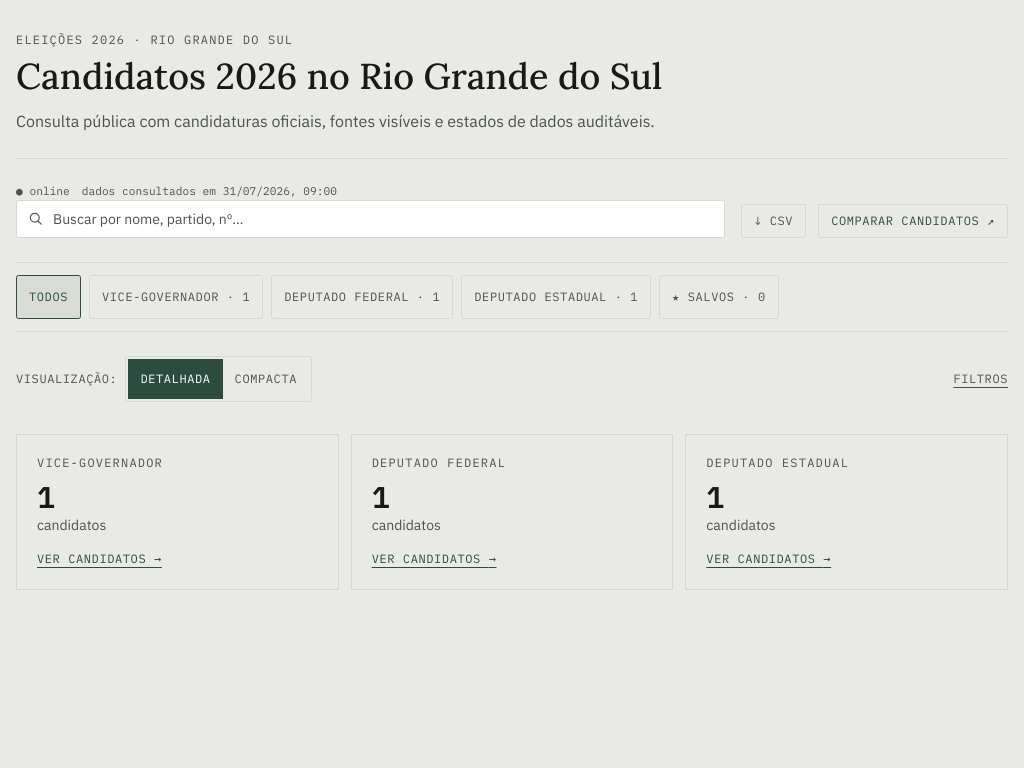
HomePage estados honestos H5.2 › oferece atalhos de cargo clicáveis e seção própria de vice-governador
What coordinates should you click on to do the following:
click the button "Vice-governador · 1"
I would click on:
 (176, 297)
Its box is [89,275,263,319].
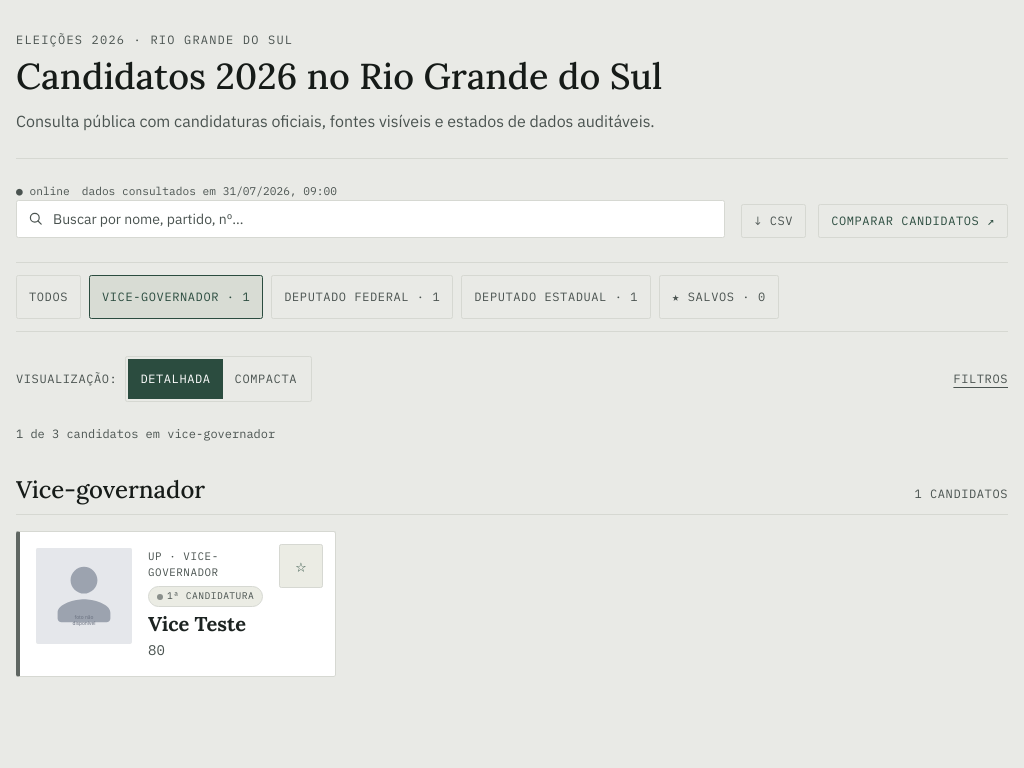
Expected: the heading "Vice Teste" is shown, [148,611,246,636]
Expected: the heading "Vice-governador" is shown, [16,474,205,506]
